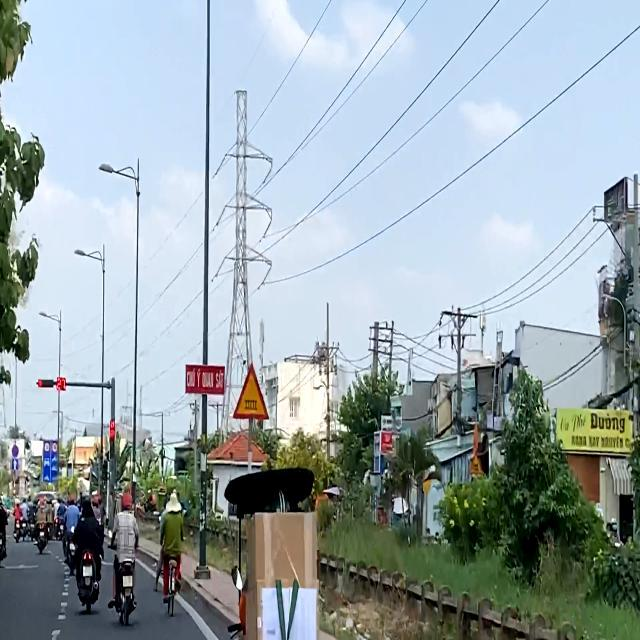Giao nhau voi duong sat co rao chan: (232, 362, 270, 420)
